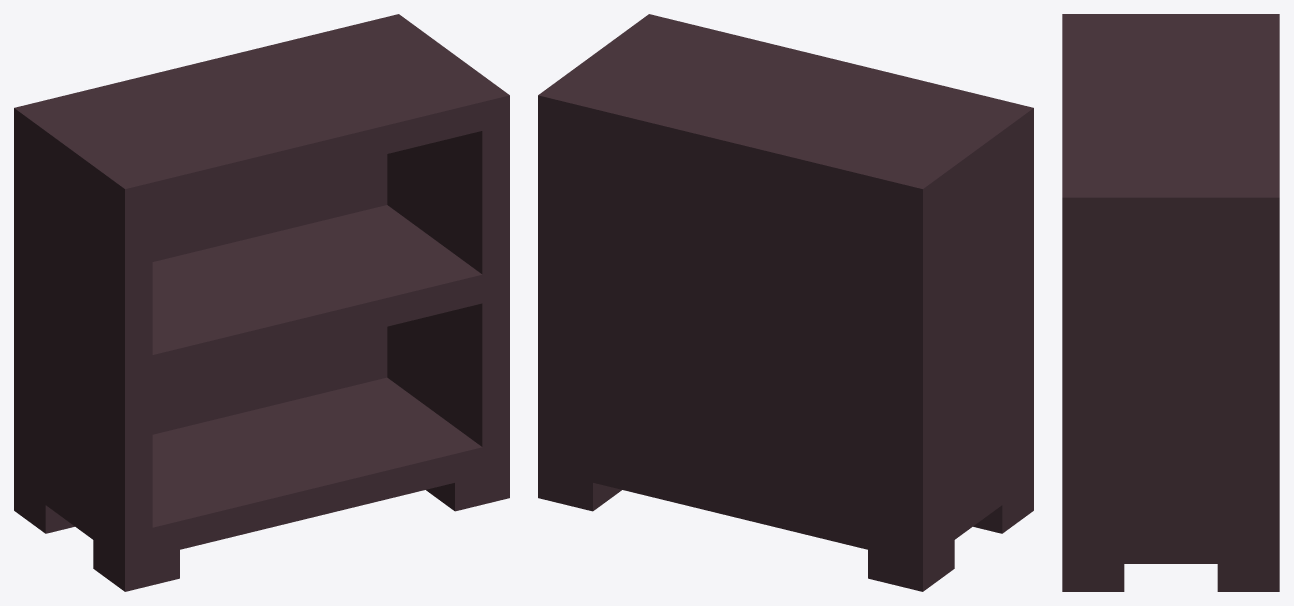
Rendered from large_bookcase_c.obj.
3 views of the same model, side by side, from view 1: azimuth 30°, elevation 25°; view 2: azimuth 150°, elevation 25°; view 3: azimuth 270°, elevation 25° (orthographic). The views are drawn at different scales.
Size of the model in its own units: 1.4 by 1.4 by 0.7.
Materials: 1 (1 with a texture image).
